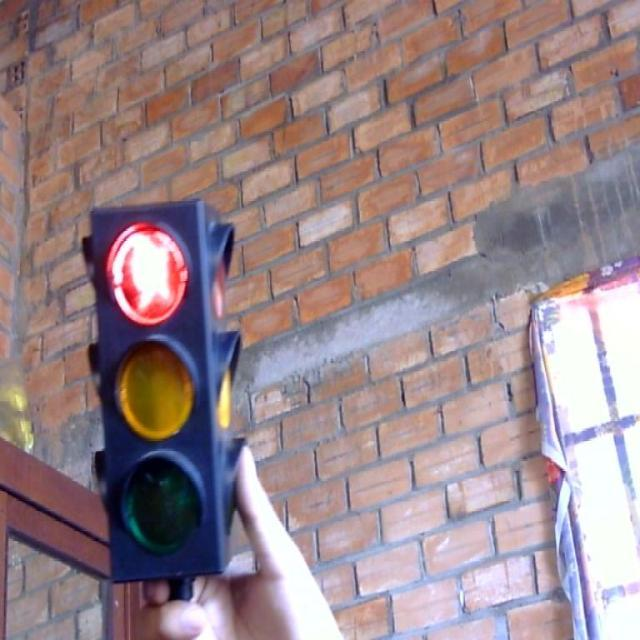red light: (100, 217, 198, 332)
